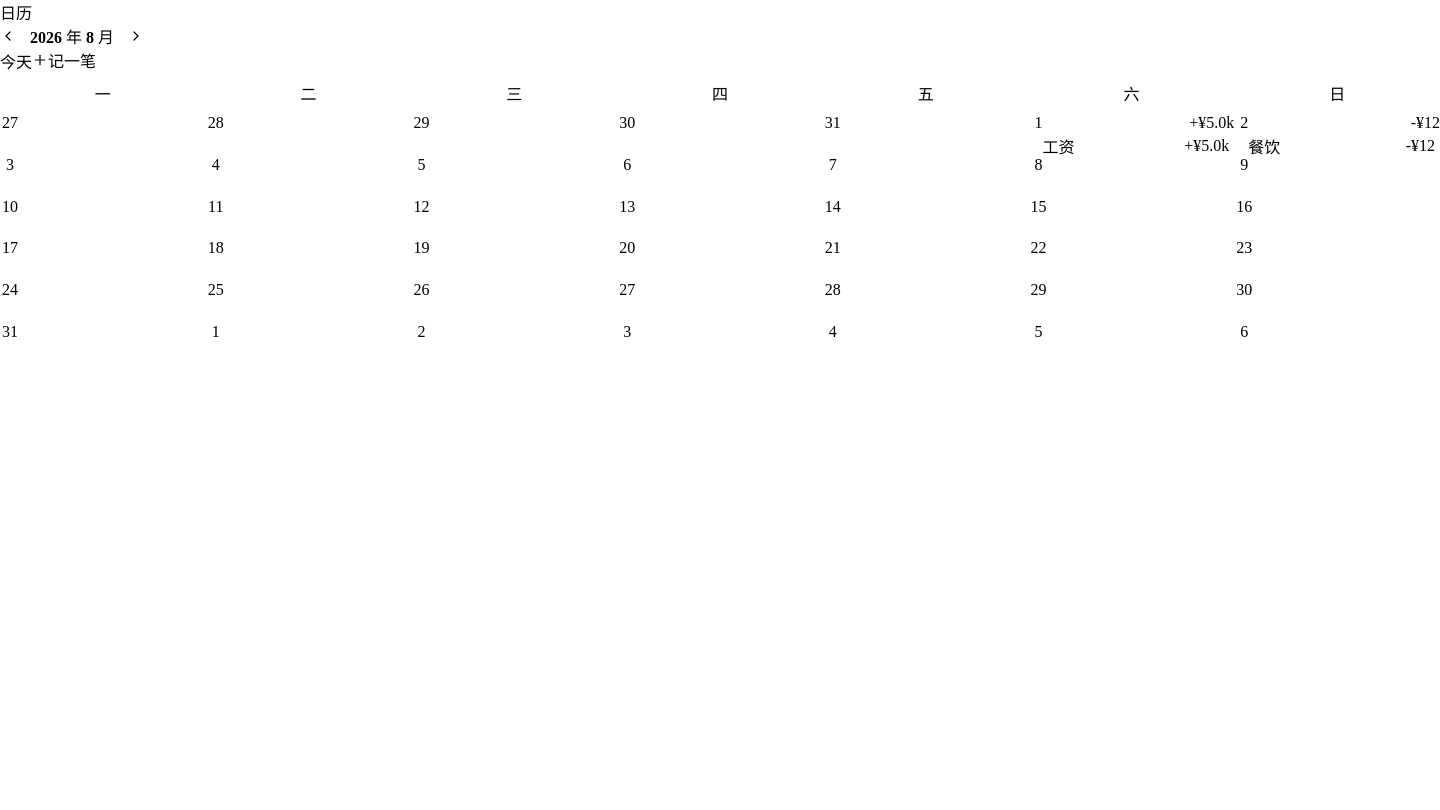
Test: TransactionWorkspace › creates a transaction with yuan-to-cents conversion and invalidates account balances
Click the button "记一笔" at (64, 60), box [32,48,96,72]
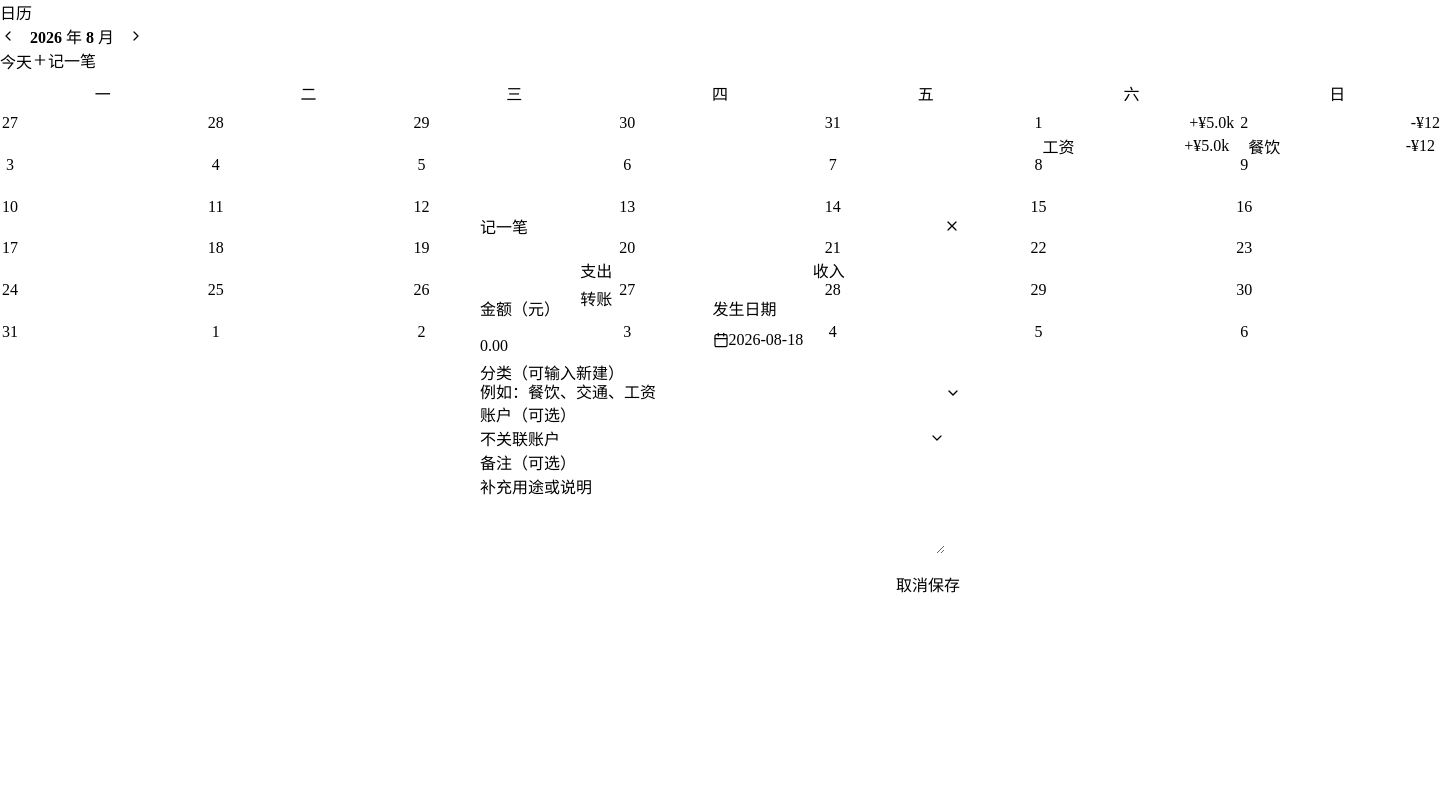
Type "12.34" into the field labelled "金额（元）" at (596, 346), box [480,331,712,360]
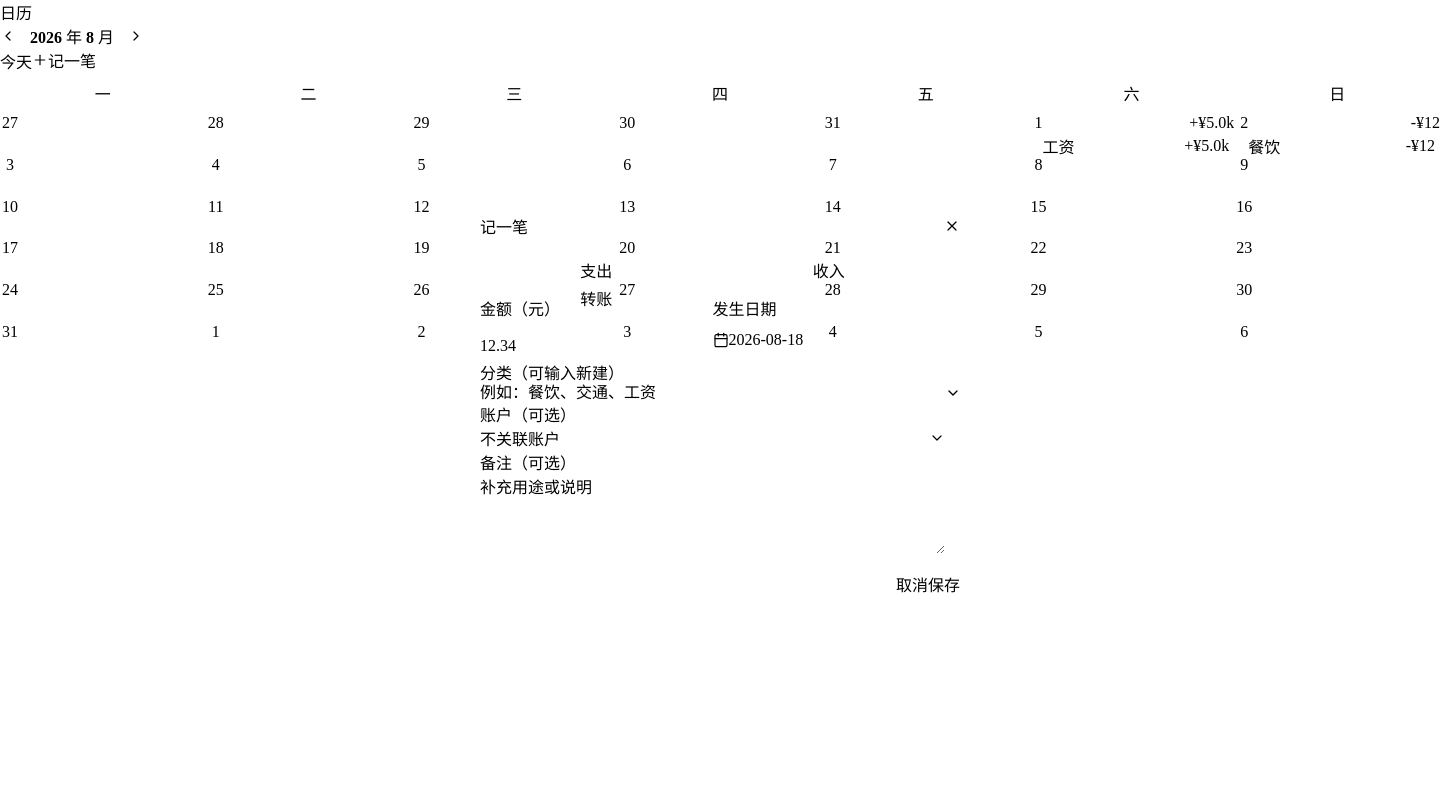
Type "零食" into the dropdown labelled "分类" at (712, 393), box [480,384,945,402]
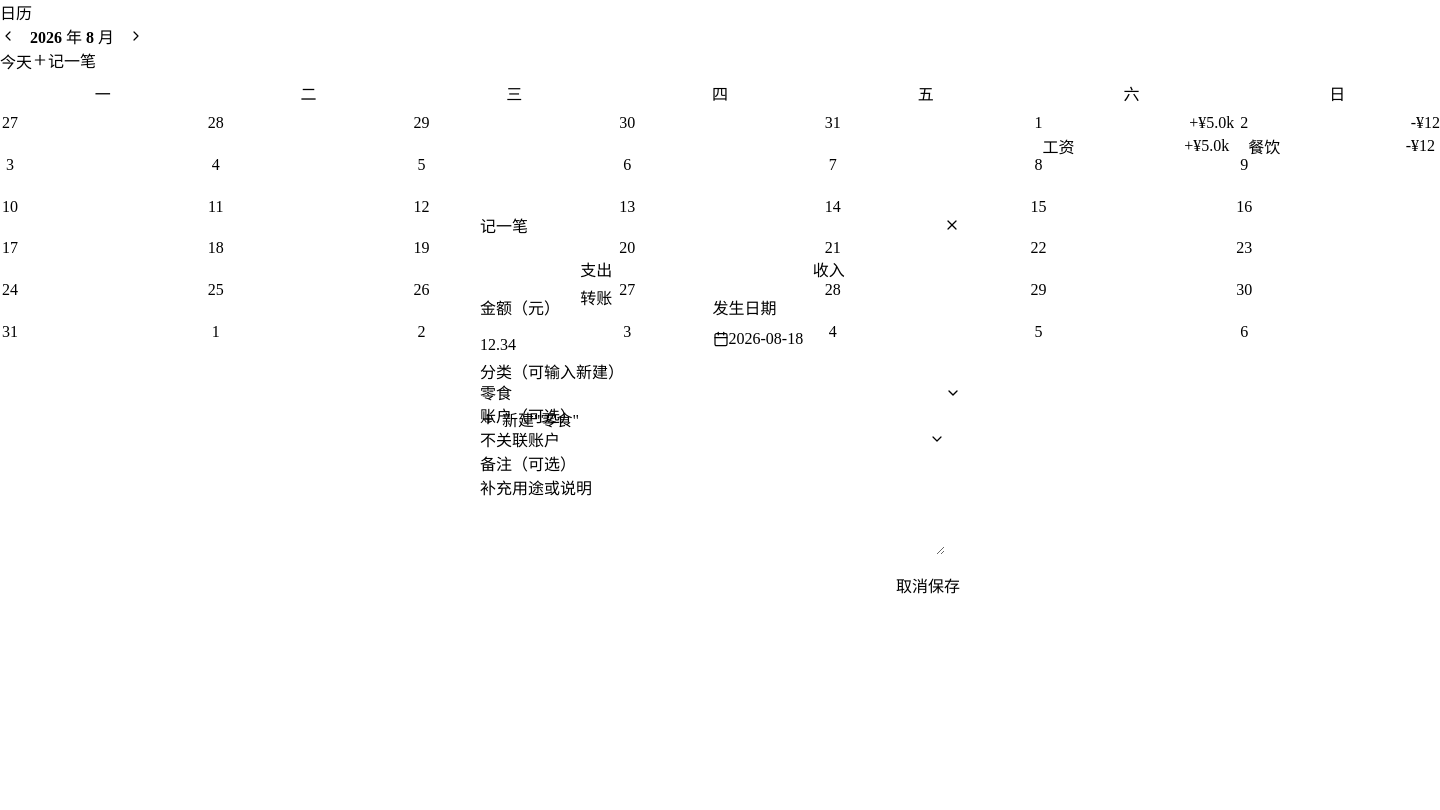
Click the option "新建\"零食\"" at (530, 420), box [480,411,579,429]
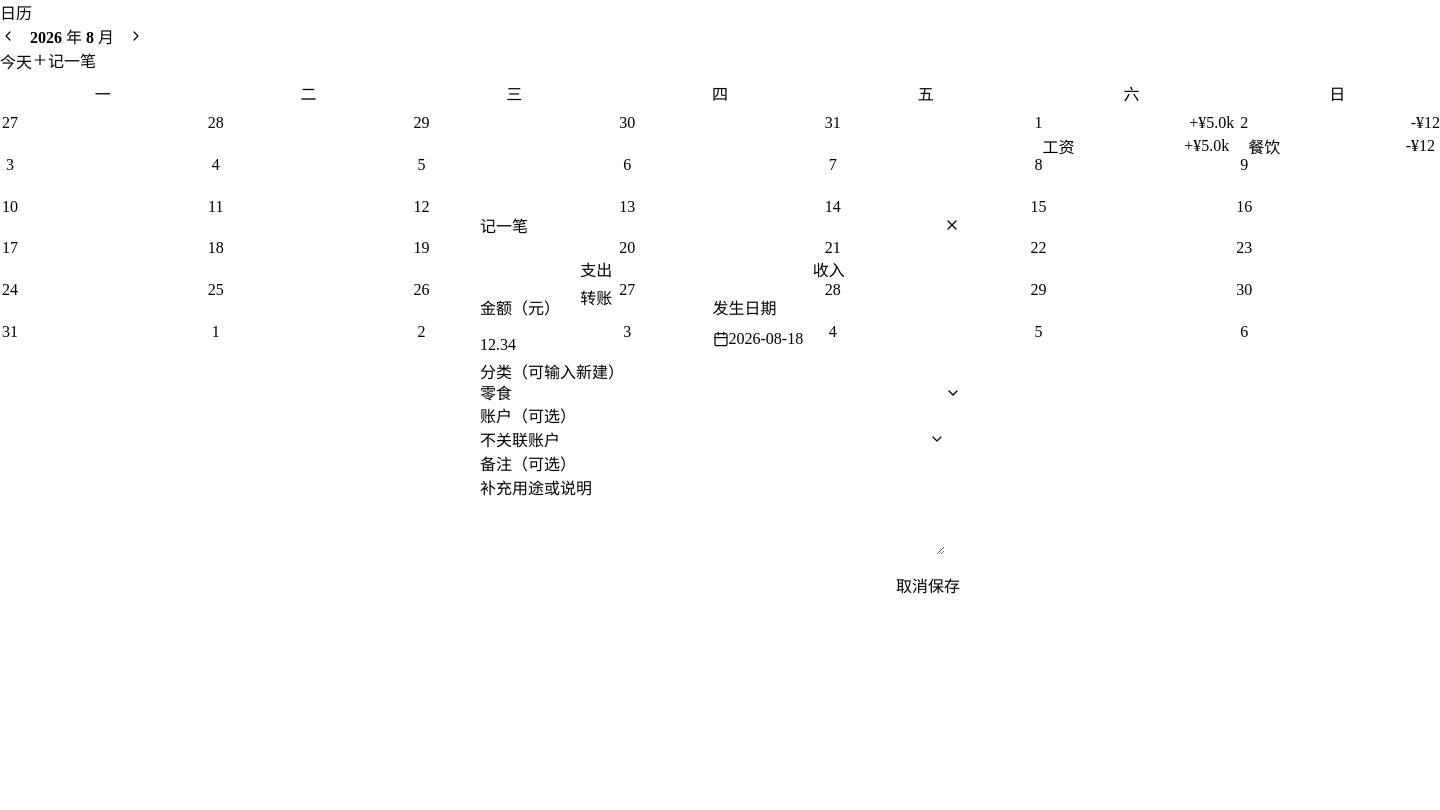
Click the button "保存" at (944, 585), box [928,573,960,597]
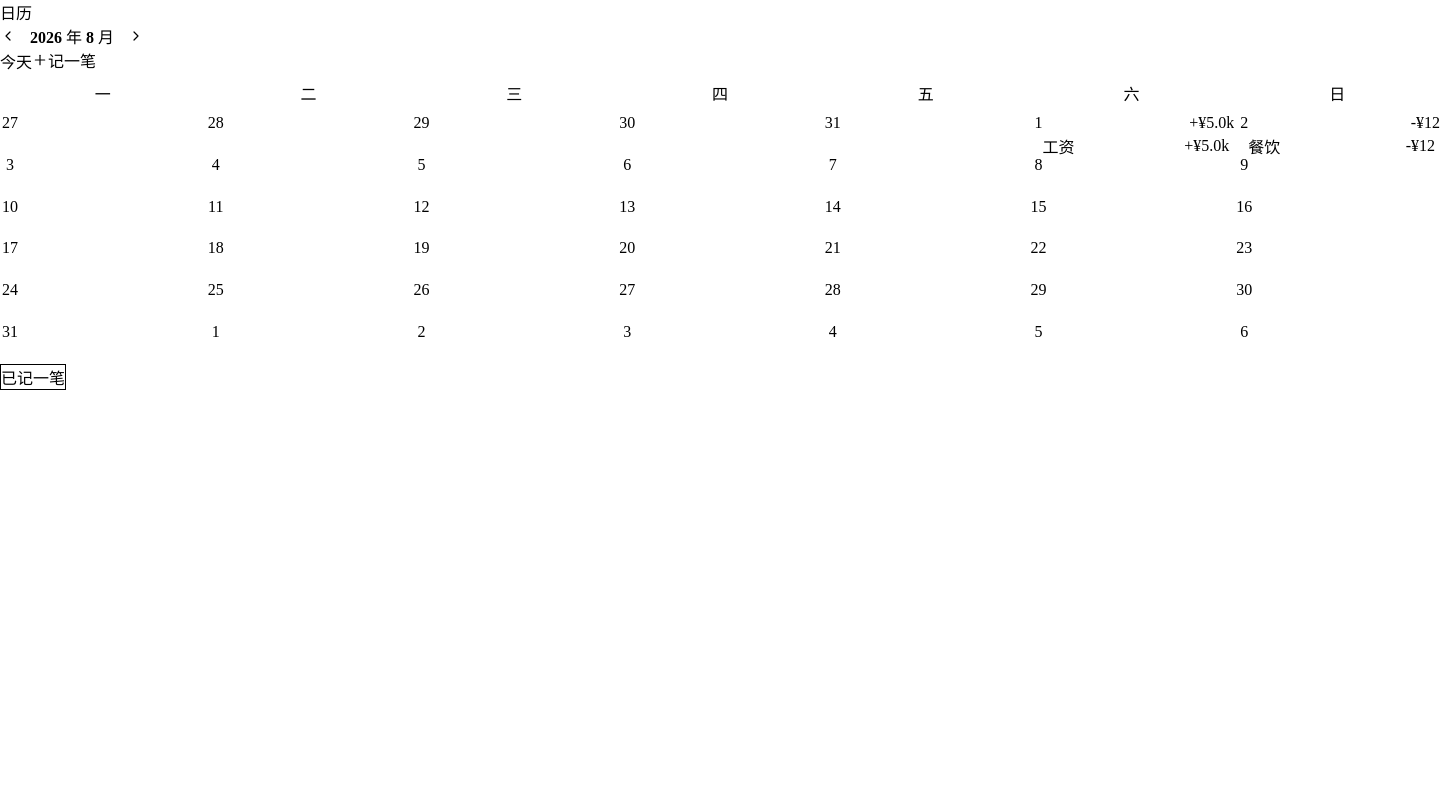
Expected: the text "已记一笔" is shown, [1,365,65,389]
